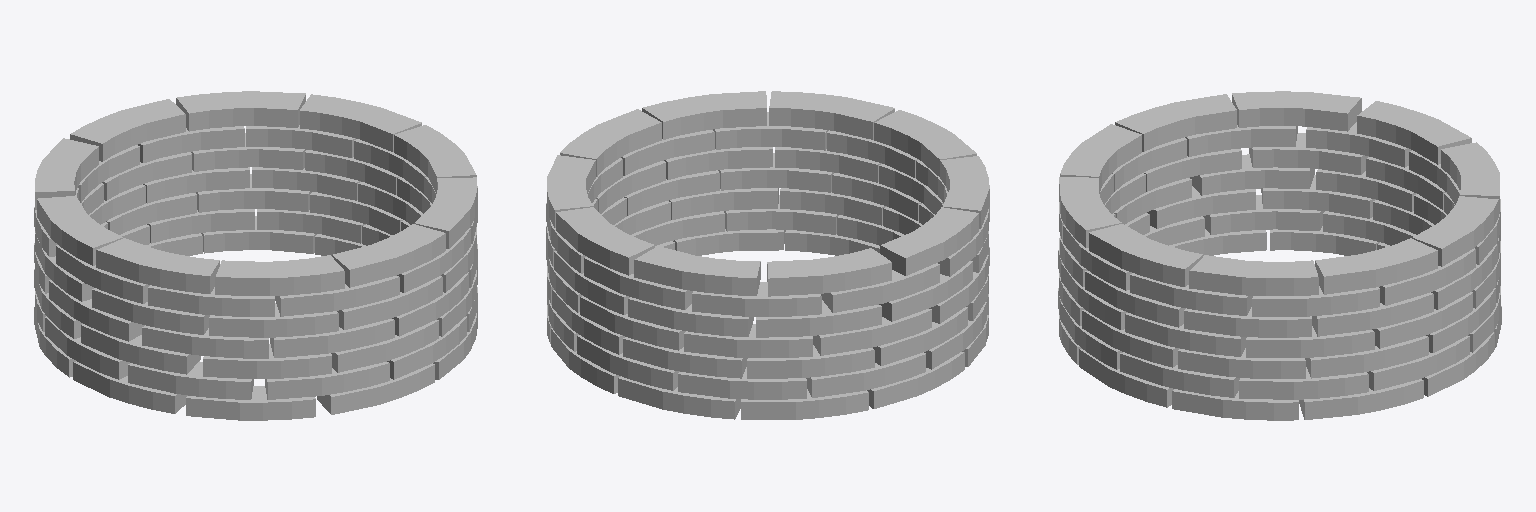
The model's file is well.obj.
The picture shows the model from 3 angles: view 1: azimuth 30°, elevation 25°; view 2: azimuth 150°, elevation 25°; view 3: azimuth 270°, elevation 25°; orthographic projection.
Parts seen in each view (by area): view 1: pCube72; view 2: pCube72; view 3: pCube72.
Part boxes in pixels (bbox=[...]): pCube72: bbox=[34, 91, 477, 420]; pCube72: bbox=[546, 91, 989, 419]; pCube72: bbox=[1058, 91, 1501, 420].
Size of the model in its own units: 22.3 by 7.89 by 22.3.